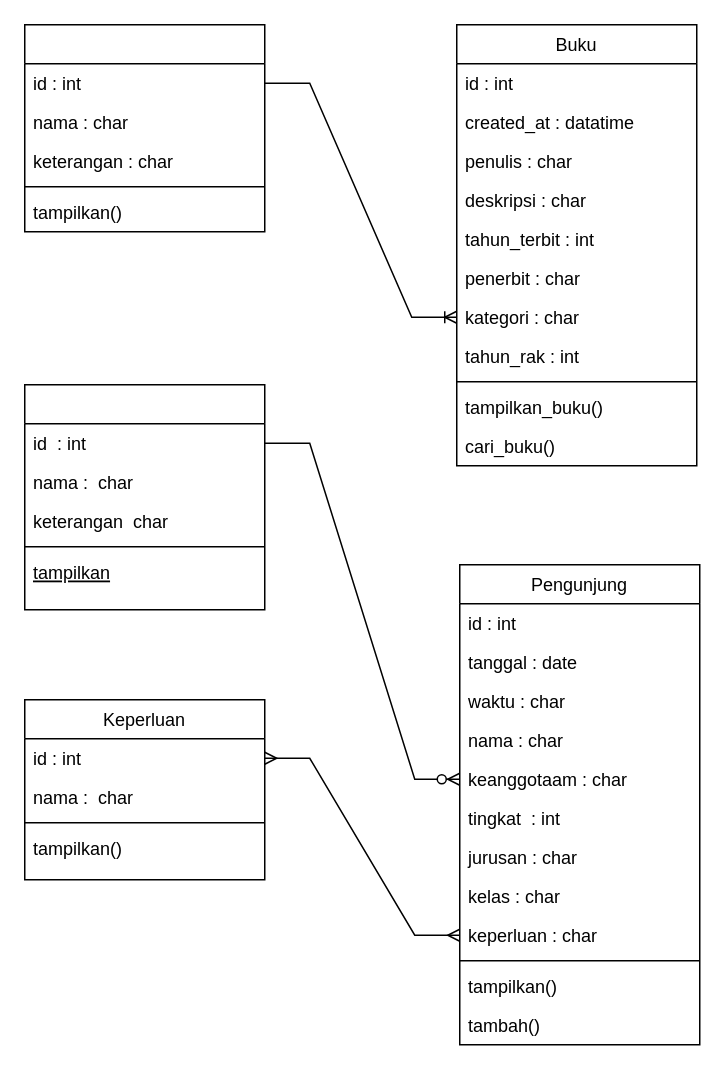
Image size: 725x1070. Some labels were removed from this diagram. Each missing label, with the box of its shape:
Kategori_buku: (23, 23, 265, 232)
Keanggotaan: (23, 383, 265, 610)
